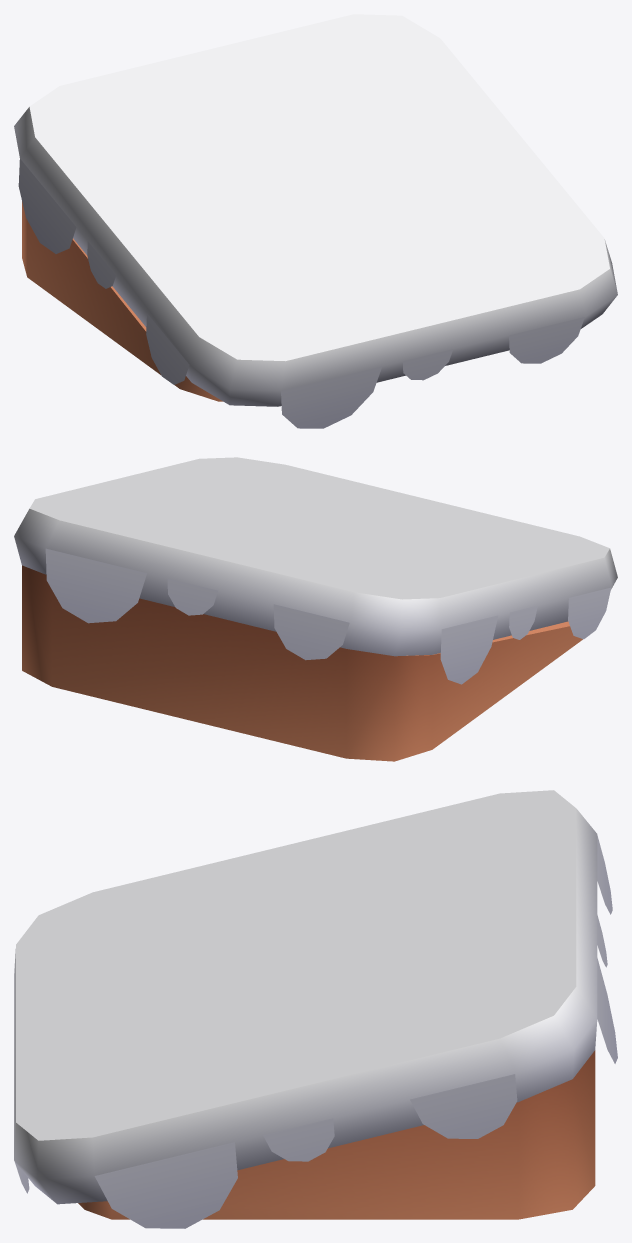
File: block-snow-overhang-large-slope.glb
3 renders of one model, top to bottom at view 1: azimuth 30°, elevation 25°; view 2: azimuth 150°, elevation 25°; view 3: azimuth 270°, elevation 25°, orthographic. The views are drawn at different scales.
Parts seen in each view (by area): view 1: block-snow-overhang-large-slope; view 2: block-snow-overhang-large-slope; view 3: block-snow-overhang-large-slope.
Part boxes in pixels (x1,y1,x2,y2): block-snow-overhang-large-slope: (14,14,617,428); block-snow-overhang-large-slope: (14,457,617,761); block-snow-overhang-large-slope: (14,790,617,1228).
Bounding box in the file's own units: 2.08 × 0.9144 × 2.08.
1 material, 1 textured.
